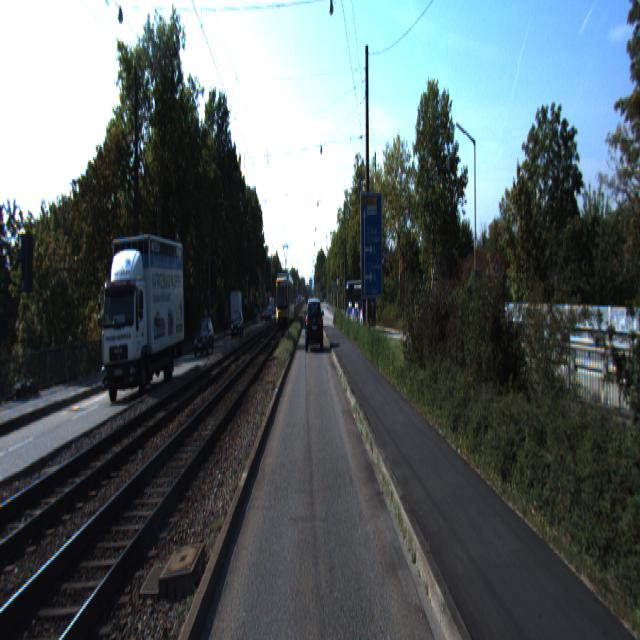Car: (193, 316, 215, 358), (307, 298, 323, 352)
DontCare: (226, 276, 298, 343)
Truck: (98, 221, 185, 400), (345, 280, 377, 333)
